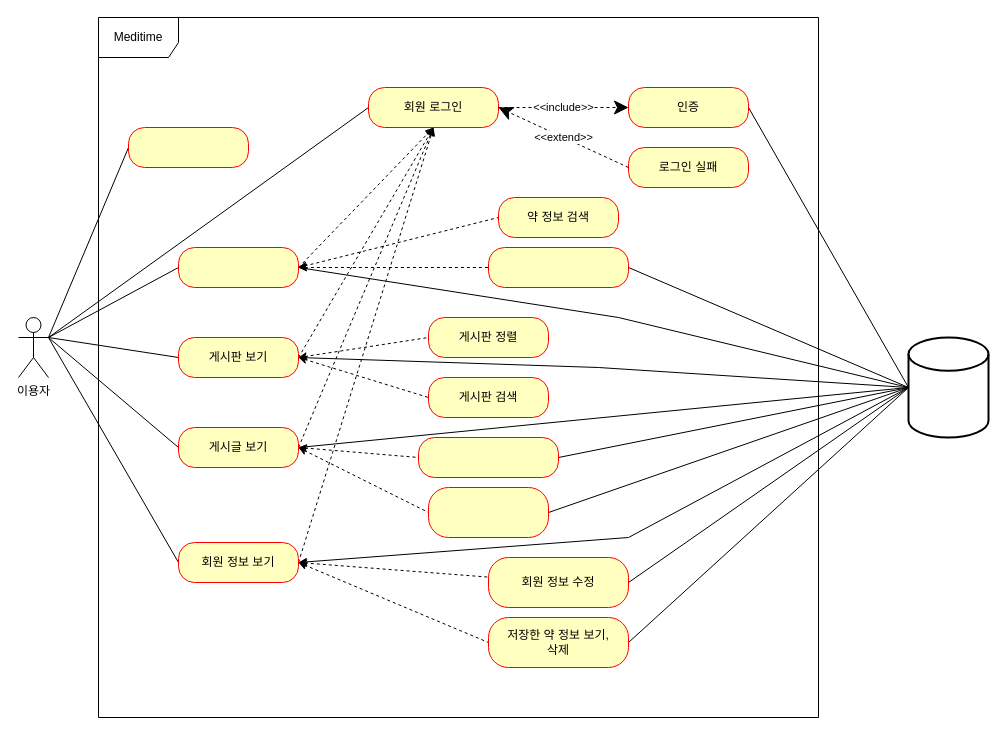
Image size: 1007x735. Some labels were removed from this diagram. Each missing label, with the centre of its shape:
DB: [948,387]
게시글 쓰기, 수정, 삭제: [488,457]
댓글 보기, 쓰기, 수정, 삭제: [488,512]
약 정보 보기: [238,267]
회원 가입: [188,147]
회원 약 정보 저장, 삭제: [558,267]
